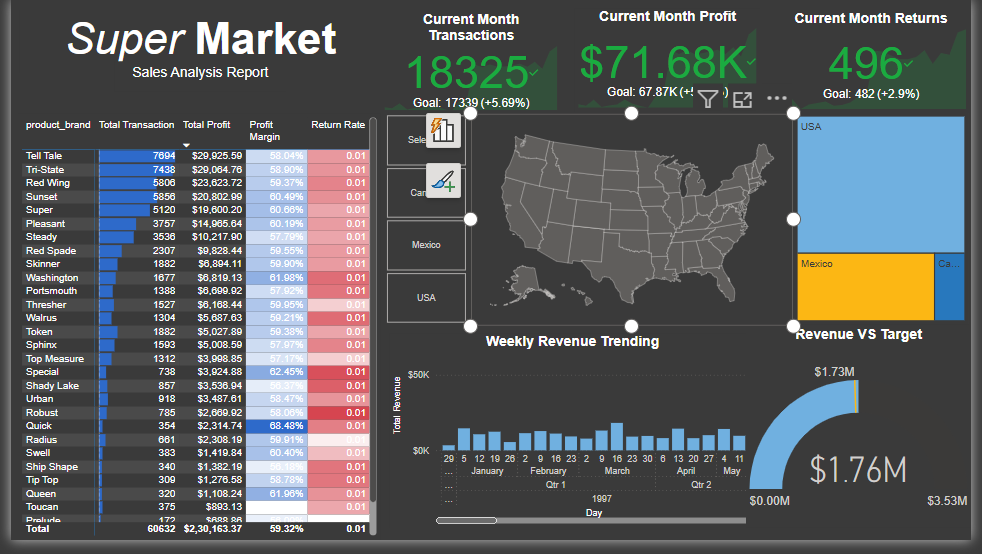

Layout of this report page (visuals, bound fields, positions):
{"tool":"powerbi","page":{"name":"Page 1","canvas":[1280,720],"ordinal":0},"visuals":[{"type":"pivotTable","fields":{"Rows":["Products.product_brand"],"Values":["Transaction Data.Total Transaction","Transaction Data.Total Profit","Transaction Data.Profit Margin","Returns Data.Return Rate"]},"box":[10.7,151.3,482.3,567.8],"z":0},{"type":"kpi","title":"Current Month Transactions","fields":{"Goal":["Calendar.Last Month Transaction"],"TrendLine":["Calendar.Start of Month"],"Indicator":["Transaction Data.Total Transaction"]},"box":[493.4,14.6,240.3,137],"z":1000},{"type":"kpi","title":"Current Month Returns","fields":{"TrendLine":["Calendar.Start of Month"],"Indicator":["Returns Data.Total_Returns"],"Goal":["Calendar.Last Month returns"]},"box":[1014.8,12.8,263.4,137],"z":2000},{"type":"kpi","title":"Current Month Profit","fields":{"TrendLine":["Calendar.Start of Month"],"Indicator":["Transaction Data.Total Profit"],"Goal":["Calendar.Last Month Profit"]},"box":[751.1,12.5,247.4,137],"z":3000},{"type":"shapeMap","fields":{"Category":["Stores.store_city"],"Value":["Transaction Data.Total Transaction"]},"box":[613.2,151.5,429.9,284.2],"z":4000},{"type":"slicer","fields":{"Values":["Stores.store_country"]},"box":[477.6,150,148.6,284.2],"z":5000},{"type":"treemap","fields":{"Group":["Stores.store_country","Stores.store_state","Stores.store_city"],"Values":["Transaction Data.Total Transaction"]},"box":[1043.7,150.4,233.8,282.7],"z":6000},{"type":"clusteredColumnChart","title":"Weekly Revenue Trending","fields":{"Y":["Transaction Data.Total Revenue"],"Category":["Calendar.Start of Week.Variation.Date Hierarchy.Year","Calendar.Start of Week.Variation.Date Hierarchy.Quarter","Calendar.Start of Week.Variation.Date Hierarchy.Month","Calendar.Start of Week.Variation.Date Hierarchy.Day"]},"box":[505,445.8,487.7,258.3],"z":7000},{"type":"gauge","title":"Revenue VS Target","fields":{"Y":["Transaction Data.Total Revenue"],"TargetValue":["Calendar.Revenue Target"]},"box":[979.6,435.7,300.1,268.4],"z":8000},{"type":"textbox","box":[10.9,12.7,482,83.4],"z":9000},{"type":"textbox","box":[137.7,81.5,228.3,39.9],"z":10000}]}

Visuals, with their boxes in screenshot pixels (x1, y1, x2, y2), scaled from the page's 1280x720 canvas onto the 982x554 screenshot:
pivotTable - Products.product_brand x Transaction Data.Total Transaction: pyautogui.locateOnScreen(8, 116, 378, 553)
"Current Month Transactions" kpi: pyautogui.locateOnScreen(379, 11, 563, 117)
"Current Month Returns" kpi: pyautogui.locateOnScreen(779, 10, 981, 115)
"Current Month Profit" kpi: pyautogui.locateOnScreen(576, 10, 766, 115)
shapeMap - Stores.store_city x Transaction Data.Total Transaction: pyautogui.locateOnScreen(470, 117, 800, 335)
slicer - Stores.store_country: pyautogui.locateOnScreen(366, 115, 480, 334)
treemap - Stores.store_country x Stores.store_state: pyautogui.locateOnScreen(801, 116, 980, 333)
"Weekly Revenue Trending" clusteredColumnChart: pyautogui.locateOnScreen(387, 343, 762, 542)
"Revenue VS Target" gauge: pyautogui.locateOnScreen(752, 335, 981, 542)
textbox: pyautogui.locateOnScreen(8, 10, 378, 74)
textbox: pyautogui.locateOnScreen(106, 63, 281, 93)
